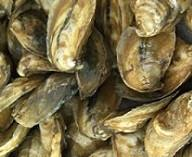3: (10, 10, 47, 59)
Oyster-Closed: (116, 40, 192, 104), (9, 76, 79, 130), (45, 0, 96, 73), (103, 92, 176, 133), (95, 0, 135, 68), (1, 77, 47, 114), (51, 121, 63, 157)
Oyster-Open: (117, 27, 176, 93), (78, 71, 122, 142), (145, 91, 192, 157), (76, 28, 111, 100), (7, 2, 38, 63), (129, 0, 179, 36), (64, 122, 111, 157), (112, 121, 150, 157), (40, 111, 68, 153), (17, 53, 64, 76), (11, 129, 49, 157), (0, 52, 11, 89)
